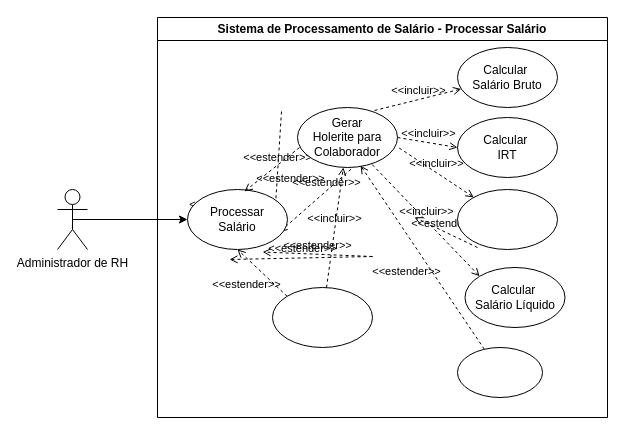
This 625x435 diagram has some shape labels left out. The shapes that lost their labels are listed below. From the top down, each one's box as (x1, y1, x2, y2) in pixels, then its label:
(456, 188, 558, 250): Calcular INSS
(272, 286, 372, 348): Listar Holerites Gerados
(456, 346, 542, 398): Exportar Holerite
